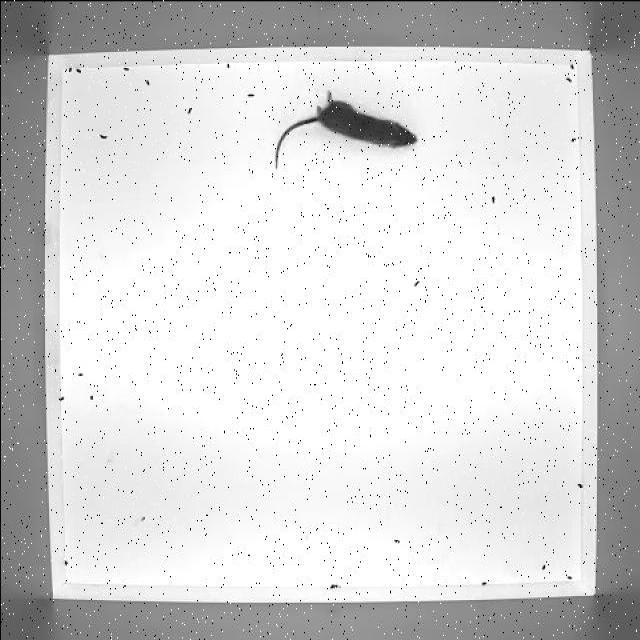rat: (269, 90, 423, 175)
